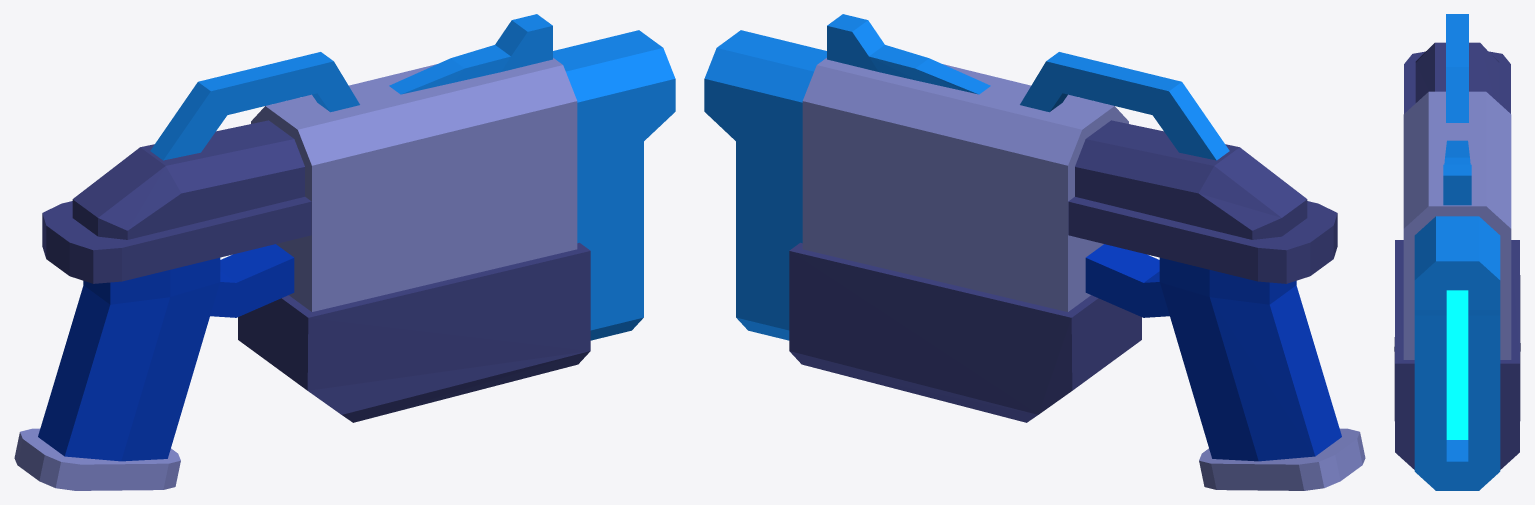
The model's file is GunArma.fbx.
3 views of the same model, side by side, from view 1: azimuth 30°, elevation 25°; view 2: azimuth 150°, elevation 25°; view 3: azimuth 270°, elevation 25° (orthographic). The views are drawn at different scales.
Parts seen in each view (by area): view 1: Armacosanos; view 2: Armacosanos; view 3: Armacosanos.
Boxes of the visible parts, box(x1,y1,x2,y2) form: Armacosanos: box(14, 14, 675, 490); Armacosanos: box(704, 14, 1365, 490); Armacosanos: box(1394, 14, 1520, 490).
Size of the model in its own units: 330 by 190 by 65.4.
